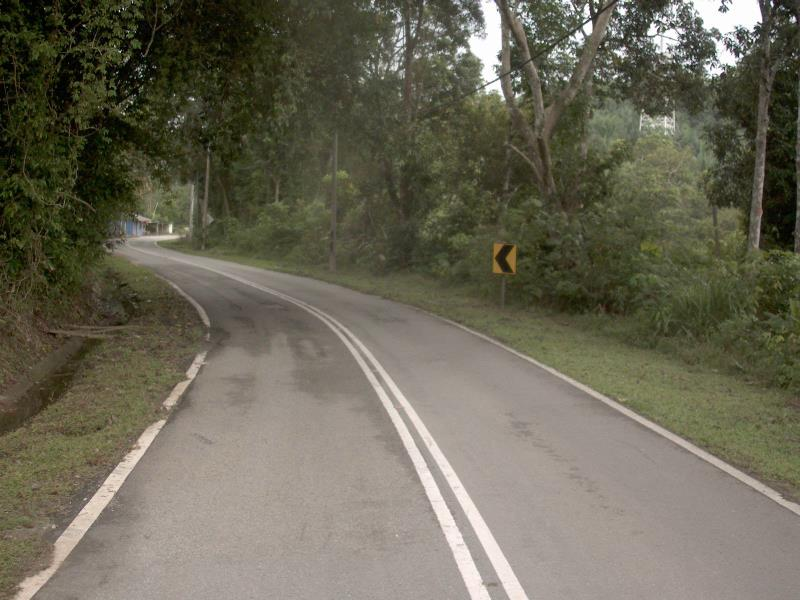traffic_sign: (485, 234, 522, 283)
